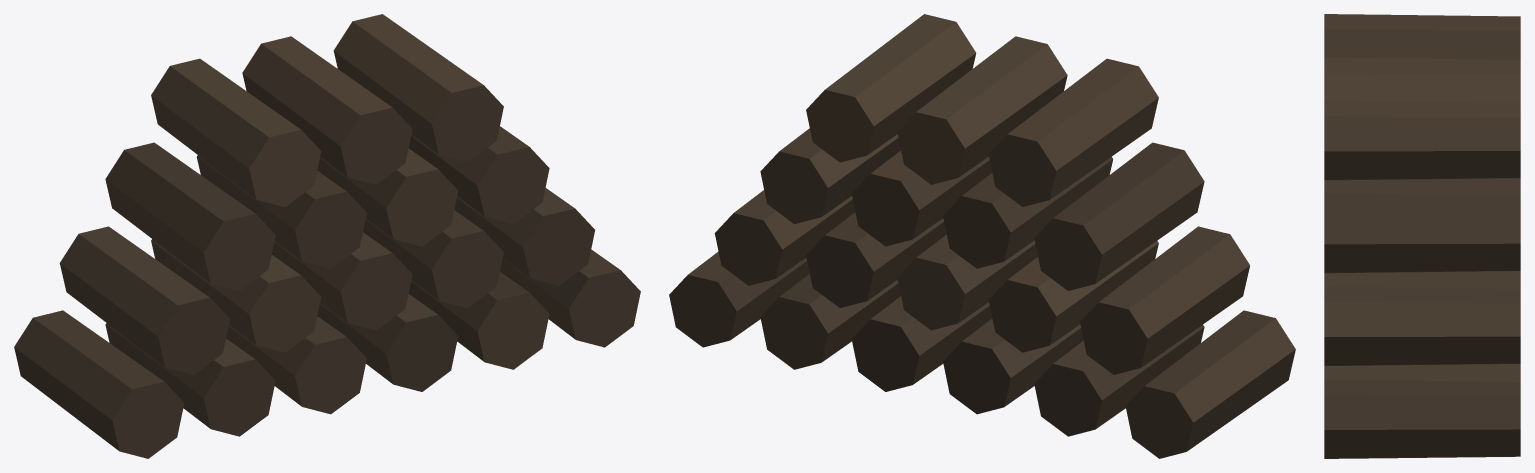
The model's file is walk_prop_woodpile.glb.
3 renders of one model, left to right at view 1: azimuth 30°, elevation 25°; view 2: azimuth 150°, elevation 25°; view 3: azimuth 270°, elevation 25°, orthographic. The views are drawn at different scales.
Visible parts, largest first — view 1: walk_prop_woodpile; view 2: walk_prop_woodpile; view 3: walk_prop_woodpile.
Part boxes in pixels (box(x1,y1,x2,y2)): walk_prop_woodpile: box(14, 14, 640, 458); walk_prop_woodpile: box(669, 14, 1295, 458); walk_prop_woodpile: box(1324, 14, 1520, 458).
Size of the model in its own units: 2.43 by 1.28 by 0.8.
1 material, 1 textured.
